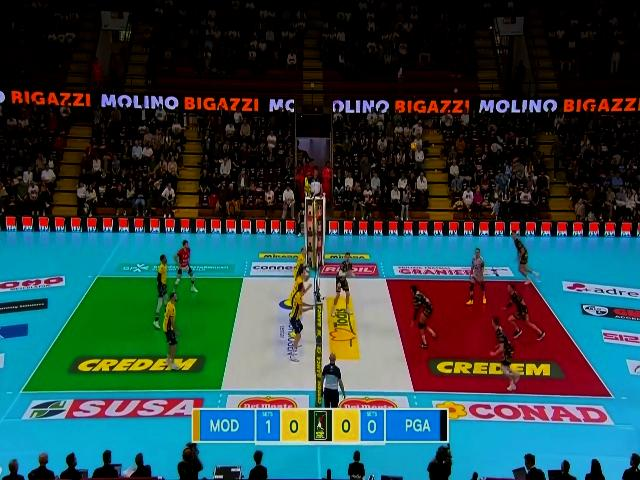volleyball court: (21, 277, 613, 397)
